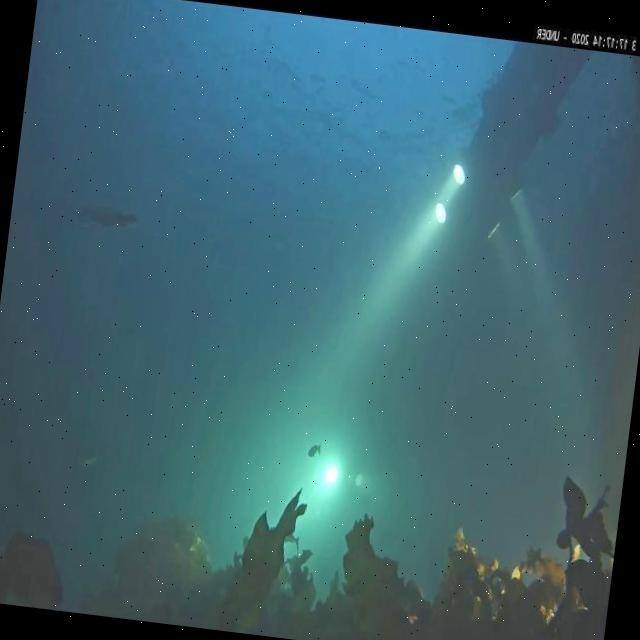fish: (75, 204, 135, 236), (306, 440, 323, 459)
